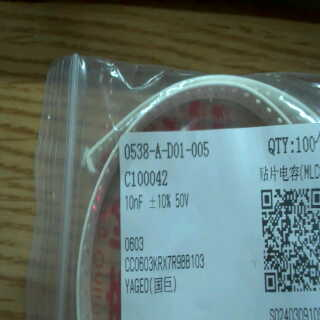10nF: (122, 192, 149, 212)
